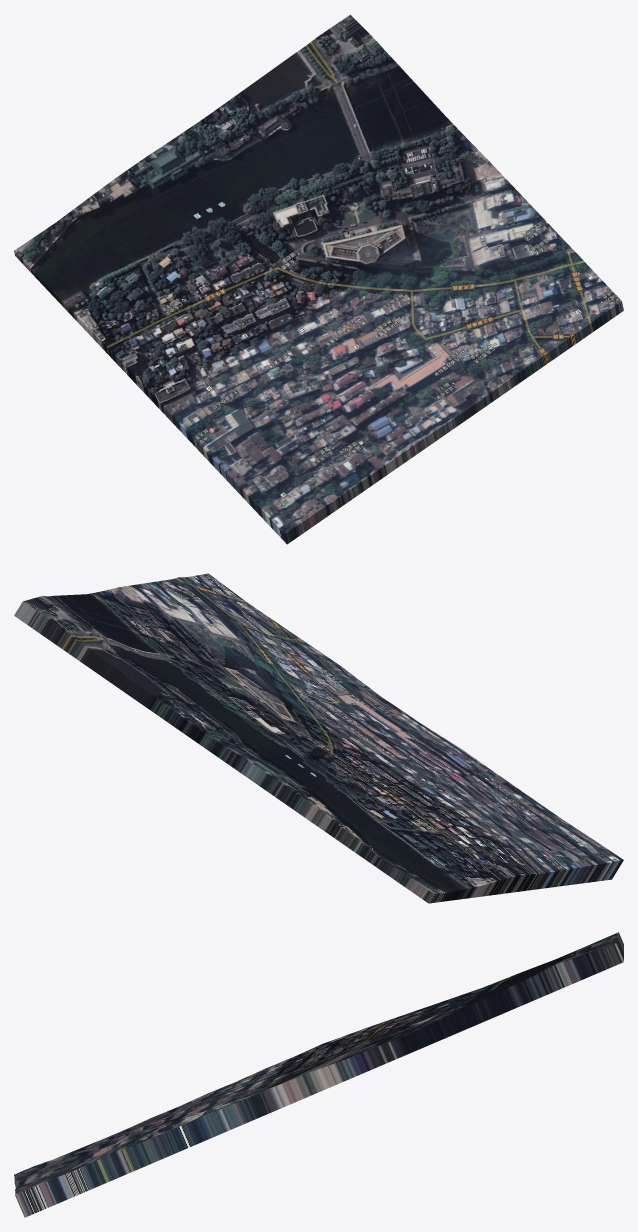
3 renders of one model, top to bottom at view 1: azimuth 30°, elevation 25°; view 2: azimuth 150°, elevation 25°; view 3: azimuth 270°, elevation 25°, orthographic. The views are drawn at different scales.
Visible parts, largest first — view 1: 0_11_17; view 2: 0_11_17; view 3: 0_11_17.
Part boxes in pixels (x1,y1,x2,y2): 0_11_17: [14, 14, 623, 544]; 0_11_17: [14, 573, 623, 903]; 0_11_17: [14, 932, 623, 1217].
Bounding box in the file's own units: 596 × 443 × 552.
1 material, 1 textured.
